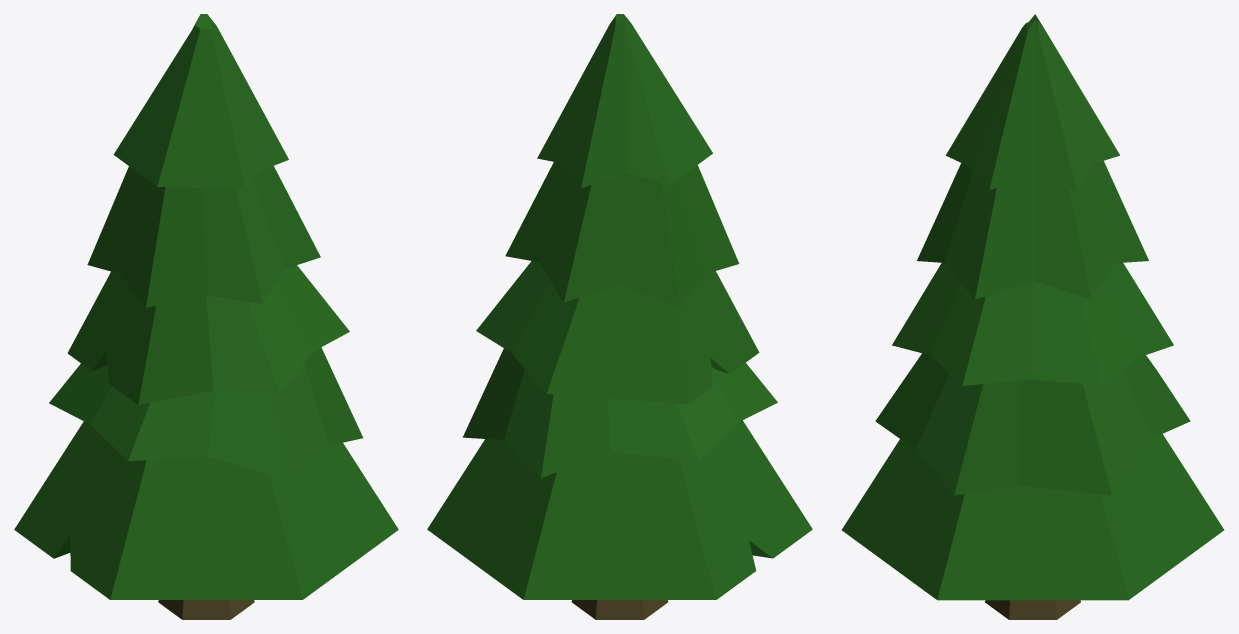
The model's file is Tree1.fbx.
3 views of the same model, side by side, from view 1: azimuth 30°, elevation 25°; view 2: azimuth 150°, elevation 25°; view 3: azimuth 270°, elevation 25° (orthographic).
Visible parts, largest first — view 1: Cylinder.001, Cylinder.003, Cylinder.004, Cylinder.002, Cylinder.005, Cylinder; view 2: Cylinder.001, Cylinder.003, Cylinder.004, Cylinder.002, Cylinder.005, Cylinder; view 3: Cylinder.001, Cylinder.002, Cylinder.003, Cylinder.004, Cylinder.005, Cylinder.
Boxes of the visible parts, bbox=[...] form: Cylinder.001: bbox=[14, 421, 398, 599]; Cylinder.003: bbox=[67, 265, 349, 405]; Cylinder.004: bbox=[87, 166, 320, 307]; Cylinder.002: bbox=[49, 347, 363, 478]; Cylinder.005: bbox=[113, 14, 288, 189]; Cylinder: bbox=[158, 600, 254, 619]; Cylinder.001: bbox=[427, 420, 812, 599]; Cylinder.003: bbox=[476, 261, 759, 404]; Cylinder.004: bbox=[505, 162, 739, 306]; Cylinder.002: bbox=[462, 348, 777, 477]; Cylinder.005: bbox=[537, 14, 712, 187]; Cylinder: bbox=[571, 600, 668, 619]; Cylinder.001: bbox=[841, 434, 1224, 600]; Cylinder.002: bbox=[875, 353, 1190, 495]; Cylinder.003: bbox=[892, 262, 1173, 385]; Cylinder.004: bbox=[917, 161, 1148, 299]; Cylinder.005: bbox=[946, 14, 1119, 189]; Cylinder: bbox=[985, 600, 1080, 619].
Size of the model in its own units: 409 by 796 by 472.
